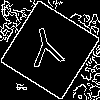Y: (25, 25, 68, 77)
